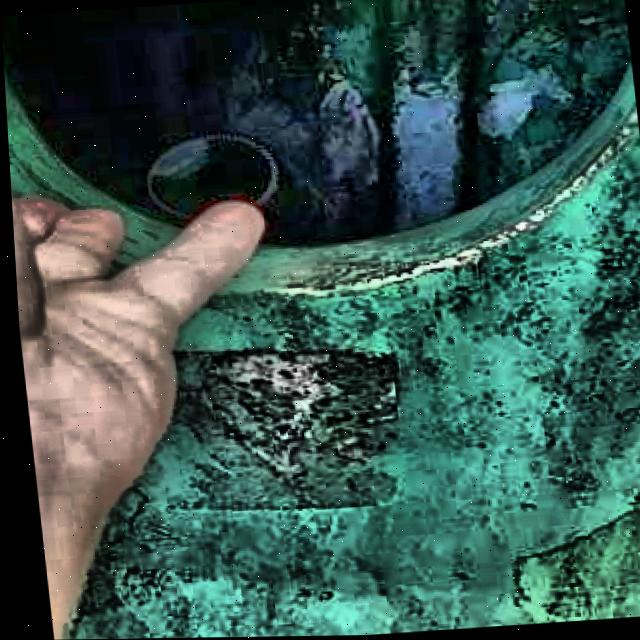glass: (147, 135, 274, 220)
